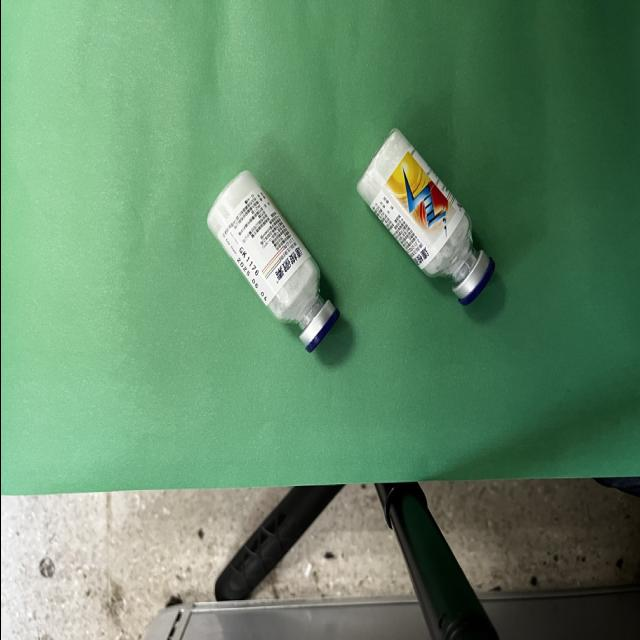Vials: (356, 129, 494, 305), (206, 171, 338, 352)
